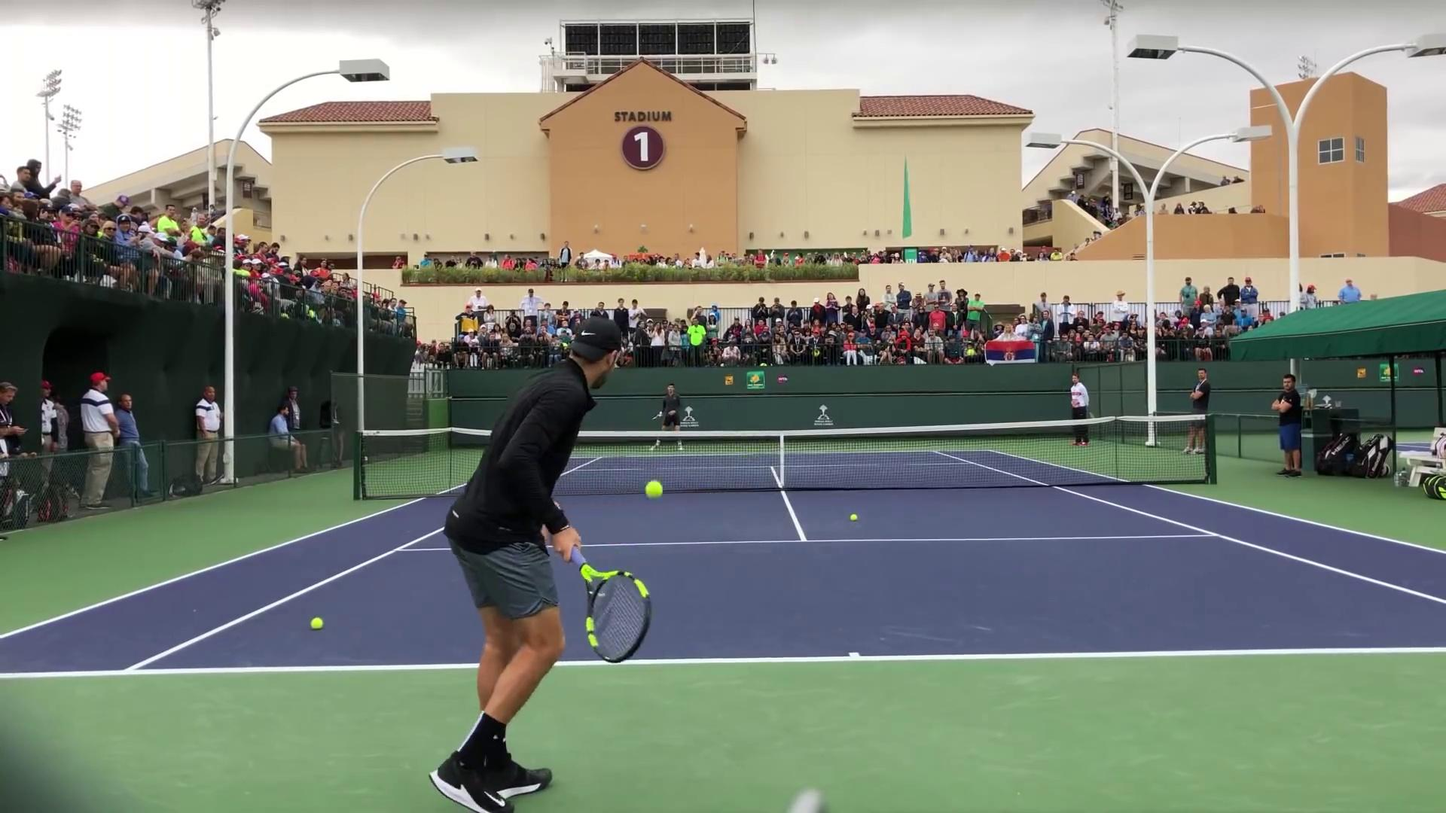ball: (644, 479, 665, 501), (310, 616, 324, 630), (850, 513, 857, 521)
